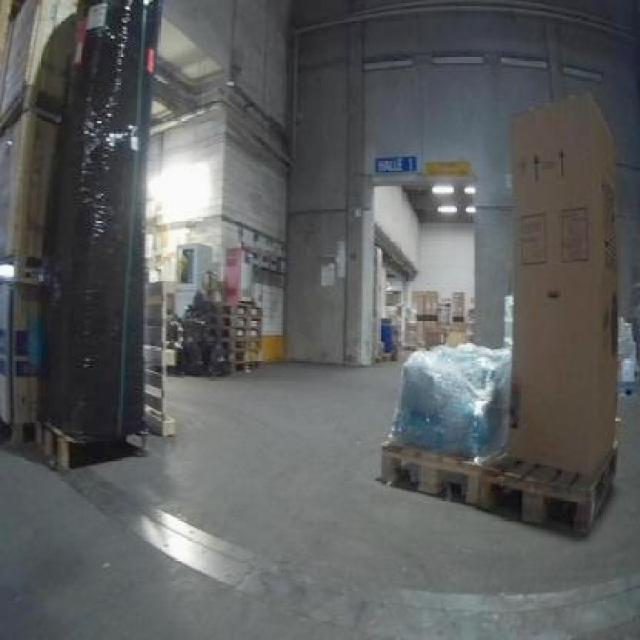floor: (0, 362, 637, 637)
pallets: (380, 97, 614, 531)
